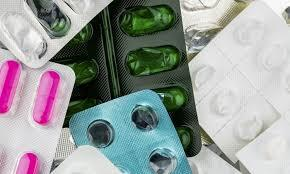pill_Strip: (69, 0, 200, 155), (189, 1, 289, 161), (109, 0, 200, 155), (70, 90, 190, 173), (0, 63, 74, 173), (0, 0, 111, 67), (180, 0, 250, 59), (236, 113, 289, 173), (0, 12, 46, 60), (52, 145, 120, 173), (26, 0, 70, 38), (33, 70, 60, 125), (0, 58, 25, 115), (188, 146, 240, 173), (0, 60, 21, 114), (51, 128, 75, 170), (54, 128, 75, 159), (15, 152, 40, 173), (180, 0, 220, 12), (64, 0, 94, 14)
